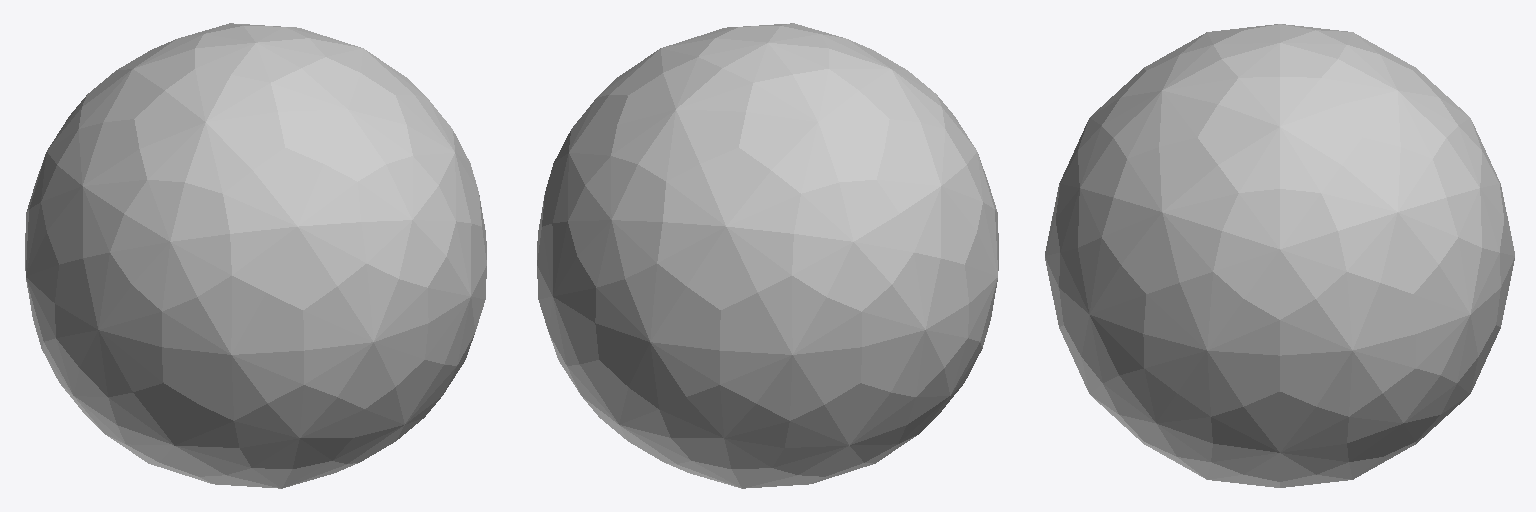
The model's file is pointlight.obj.
The picture shows the model from 3 angles: view 1: azimuth 30°, elevation 25°; view 2: azimuth 150°, elevation 25°; view 3: azimuth 270°, elevation 25°; orthographic projection.
Size of the model in its own units: 1.88 by 1.9 by 1.9.